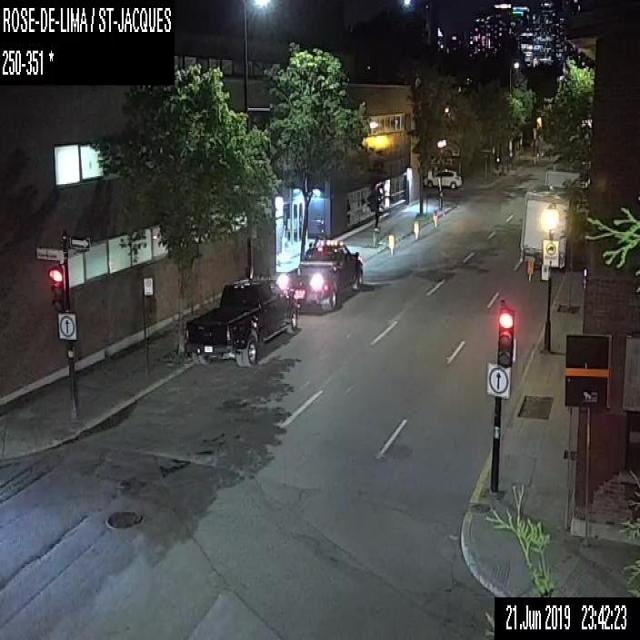construction: (524, 257, 532, 278), (387, 233, 394, 254), (414, 222, 418, 240), (432, 213, 436, 230)
vehicle: (181, 271, 297, 361), (293, 238, 363, 314), (518, 179, 577, 268), (424, 168, 462, 188)
